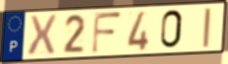0: (159, 8, 184, 50)
2: (63, 13, 87, 54)
4: (126, 9, 151, 52)
F: (90, 11, 124, 55)
I: (201, 6, 213, 49)
X: (26, 14, 58, 58)
